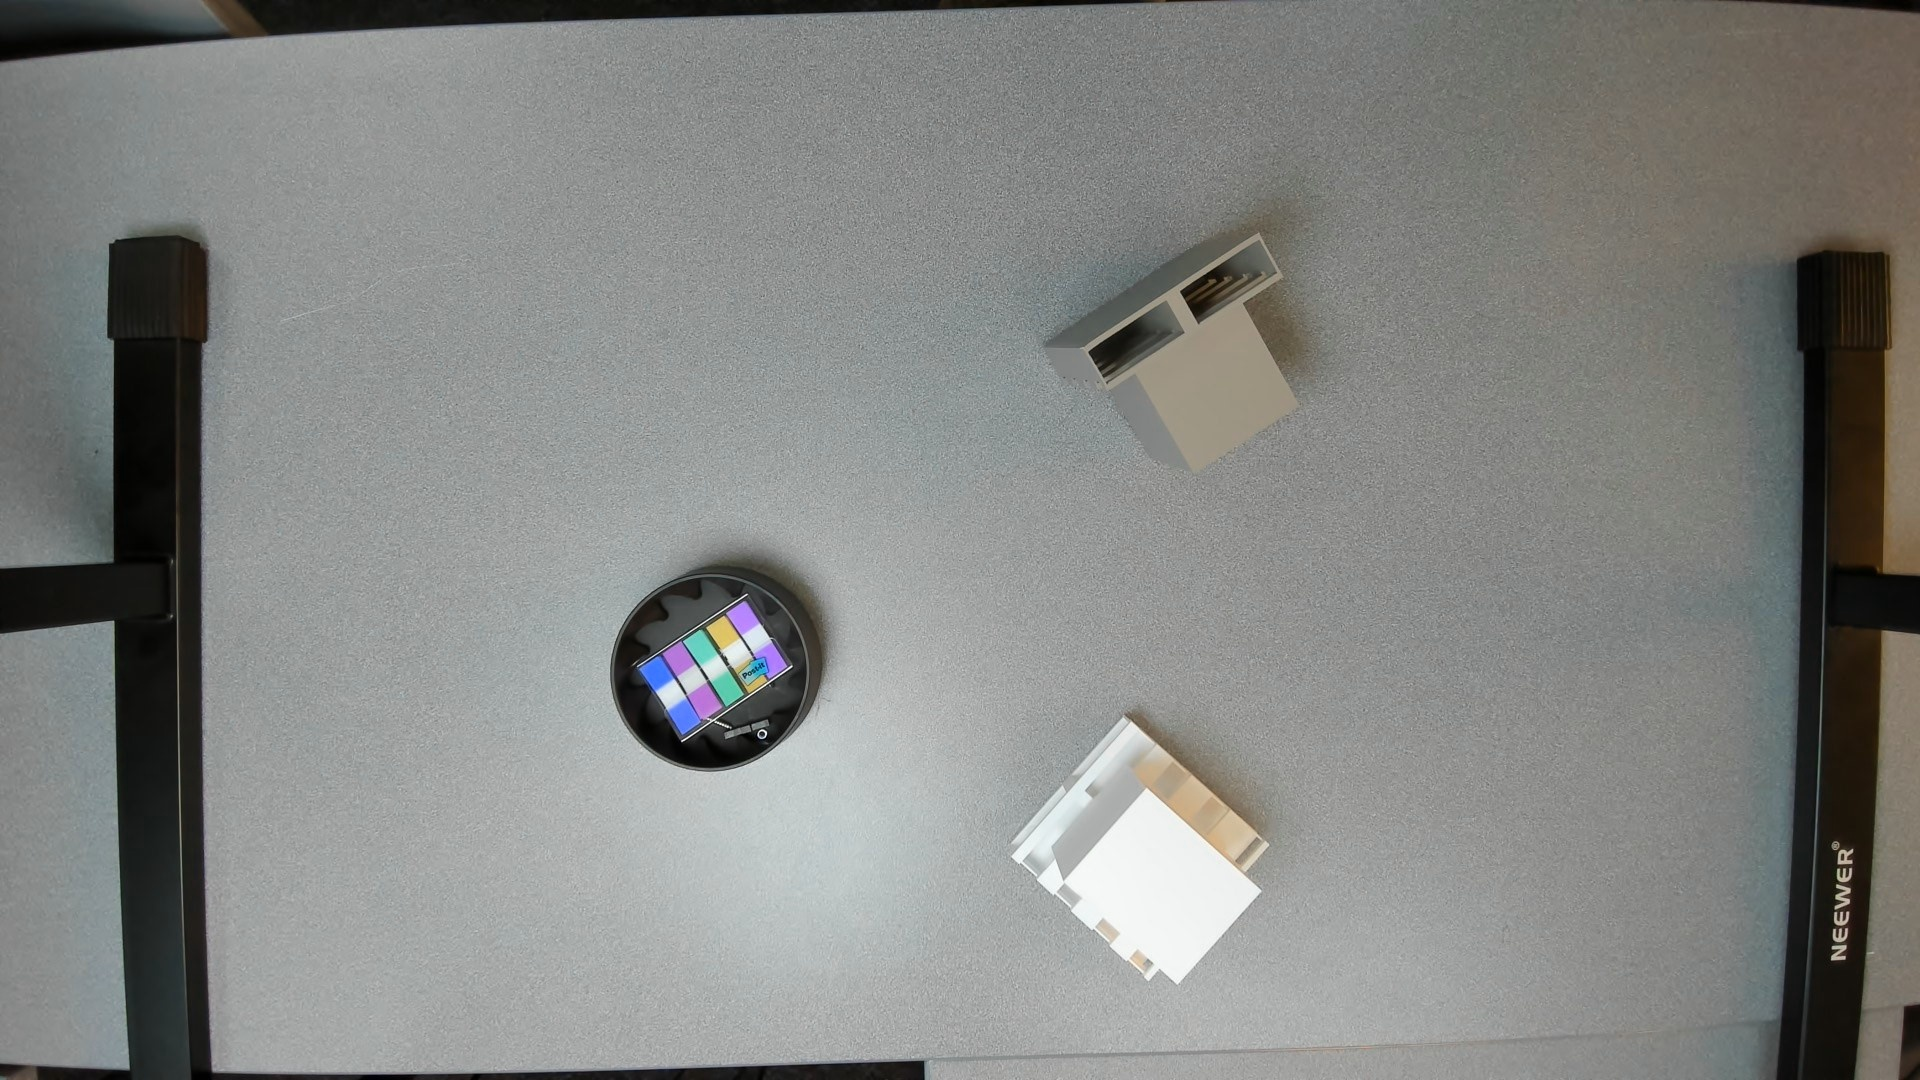grey pallet: (1033, 222, 1327, 485)
white pallet: (1005, 704, 1284, 997)
